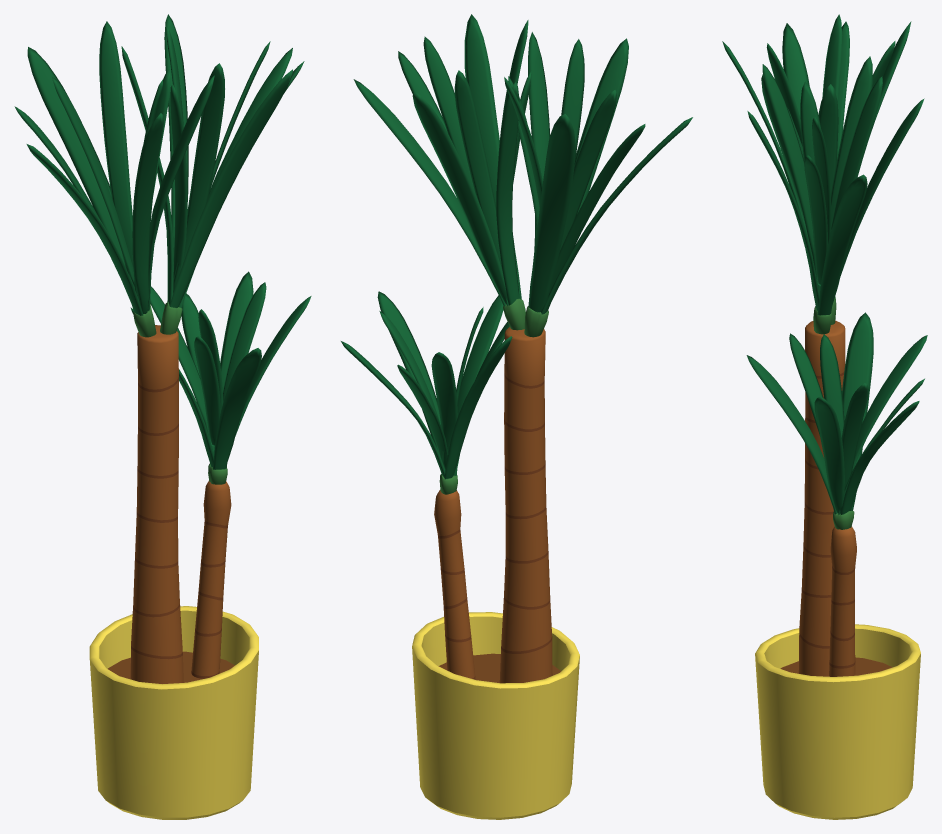
The model's file is Plant1.fbx.
3 views of the same model, side by side, from view 1: azimuth 30°, elevation 25°; view 2: azimuth 150°, elevation 25°; view 3: azimuth 270°, elevation 25° (orthographic). The views are drawn at different scales.
Parts seen in each view (by area): view 1: Plant1; view 2: Plant1; view 3: Plant1.
Boxes of the visible parts, left/top/right/bottom form: Plant1: left=14, top=14, right=311, bottom=819; Plant1: left=341, top=14, right=692, bottom=819; Plant1: left=722, top=14, right=927, bottom=819.
Bounding box in the file's own units: 0.6623 × 1.56 × 0.3974.
